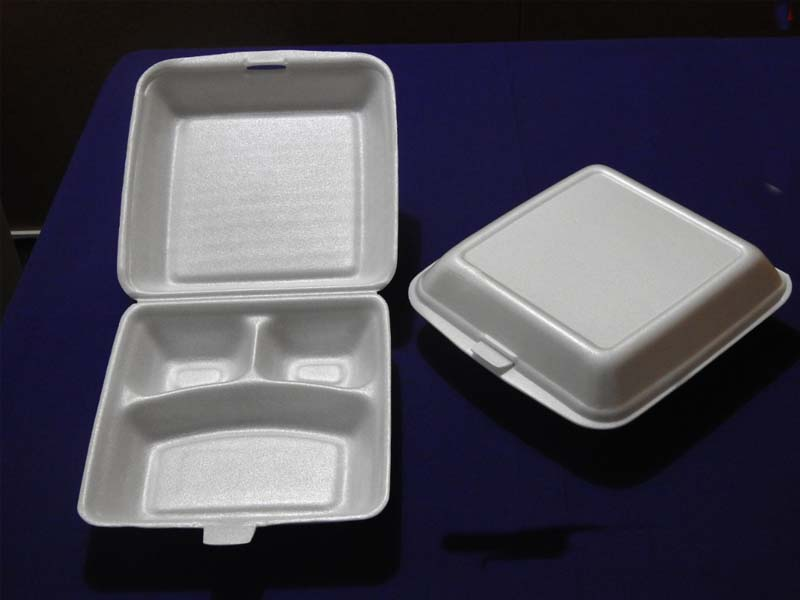Foam Box: (71, 44, 401, 548), (401, 156, 800, 434)
